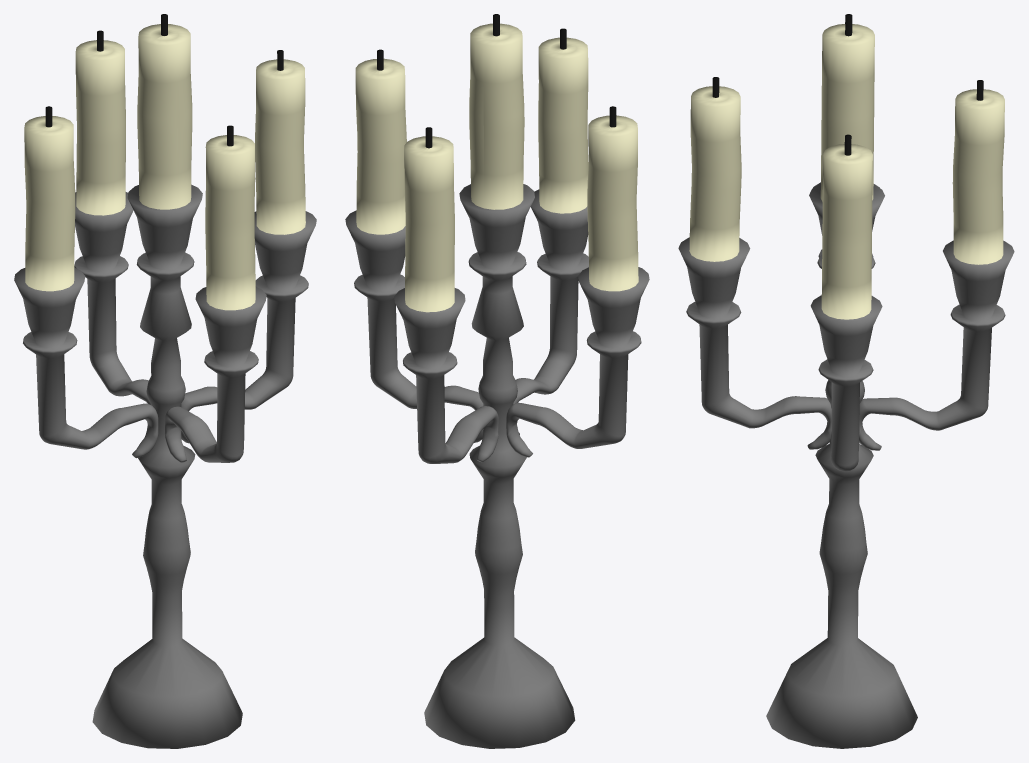
File: f_candlestick_04.fbx
The picture shows the model from 3 angles, left to right: view 1: azimuth 30°, elevation 25°; view 2: azimuth 150°, elevation 25°; view 3: azimuth 270°, elevation 25°; orthographic projection.
Visible parts, largest first — view 1: Circle.002; view 2: Circle.002; view 3: Circle.002.
Boxes of the visible parts, left/top/right/bottom form: Circle.002: left=14, top=14, right=316, bottom=748; Circle.002: left=345, top=14, right=649, bottom=748; Circle.002: left=678, top=14, right=1014, bottom=748.
Bounding box in the file's own units: 154 × 350 × 152.
